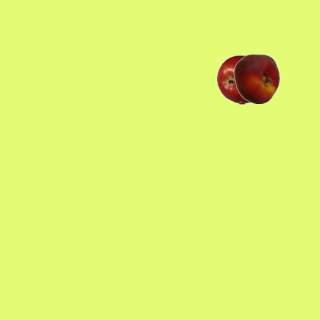Apple Braeburn: (216, 54, 266, 104)
Nectarine Flat: (231, 53, 281, 103)
